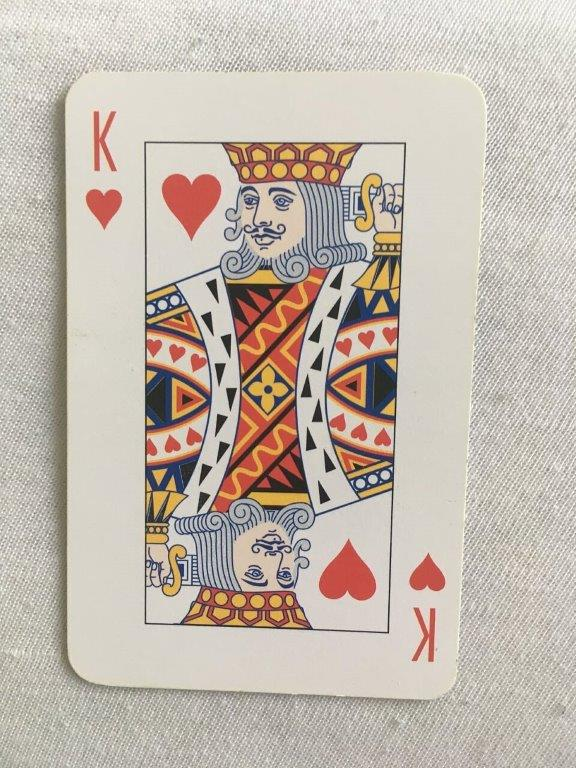KH: (59, 66, 490, 704)
